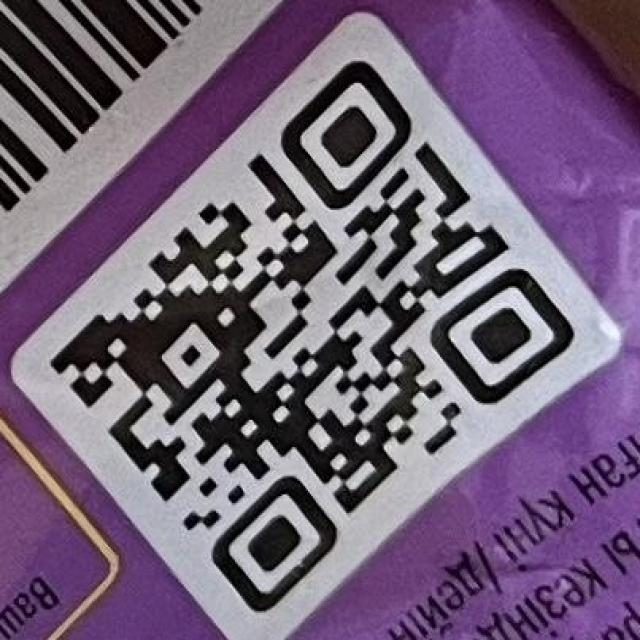QR_CODE: (51, 56, 574, 613)
